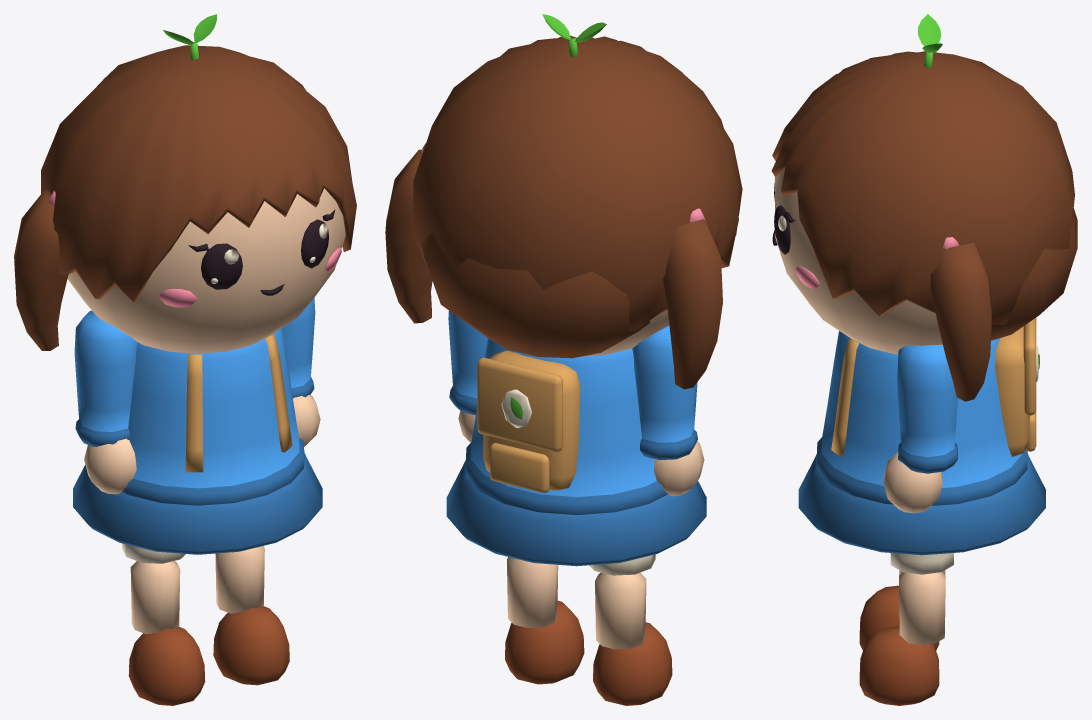
The model's file is hero-girl-teen.glb.
3 views of the same model, side by side, from view 1: azimuth 30°, elevation 25°; view 2: azimuth 150°, elevation 25°; view 3: azimuth 270°, elevation 25° (orthographic). The views are drawn at different scales.
Parts seen in each view (by area): view 1: head, body, arm-left, leg-left, leg-right, arm-right, head-leaf; view 2: head, body, leg-left, leg-right, arm-left, arm-right, head-leaf; view 3: head, body, leg-right, arm-right, leg-left, head-leaf.
Part boxes in pixels (left/top/right/bottom): head: left=14, top=45, right=356, bottom=353; body: left=73, top=328, right=322, bottom=554; arm-left: left=74, top=310, right=137, bottom=494; leg-left: left=122, top=543, right=205, bottom=705; leg-right: left=213, top=546, right=289, bottom=685; arm-right: left=282, top=297, right=320, bottom=446; head-leaf: left=163, top=14, right=216, bottom=59; head: left=385, top=35, right=742, bottom=389; body: left=446, top=338, right=706, bottom=566; leg-left: left=589, top=554, right=672, bottom=705; leg-right: left=505, top=557, right=584, bottom=684; arm-left: left=632, top=326, right=704, bottom=496; arm-right: left=448, top=310, right=487, bottom=442; head-leaf: left=542, top=14, right=606, bottom=56; head: left=771, top=51, right=1077, bottom=401; body: left=798, top=317, right=1045, bottom=555; leg-right: left=859, top=553, right=953, bottom=705; arm-right: left=883, top=344, right=957, bottom=513; leg-left: left=859, top=570, right=945, bottom=650; head-leaf: left=918, top=14, right=942, bottom=67.
Bounding box in the file's own units: 1.3 × 2.51 × 1.07.
